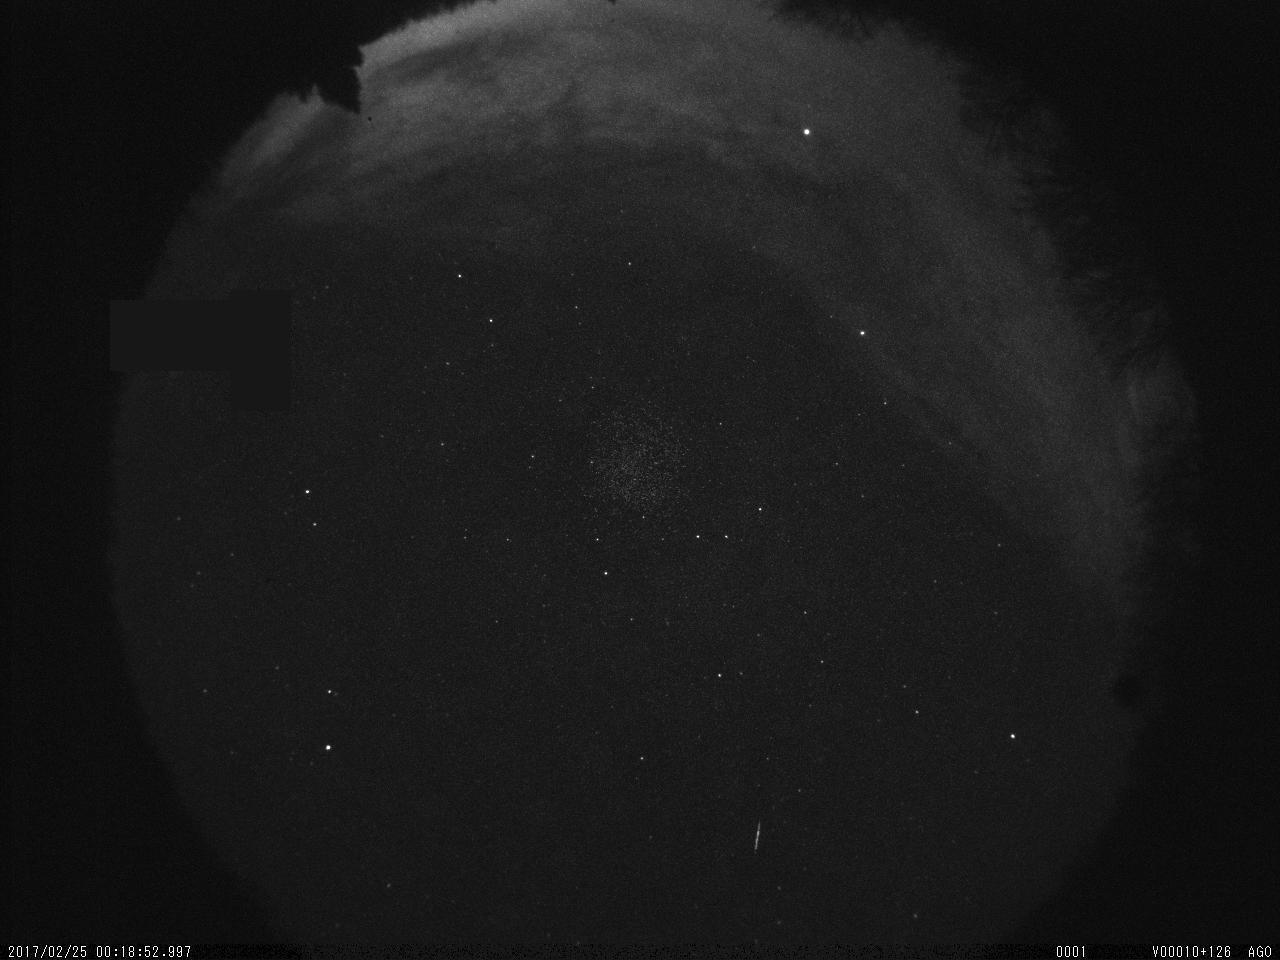Meteor: (751, 815, 769, 863)
